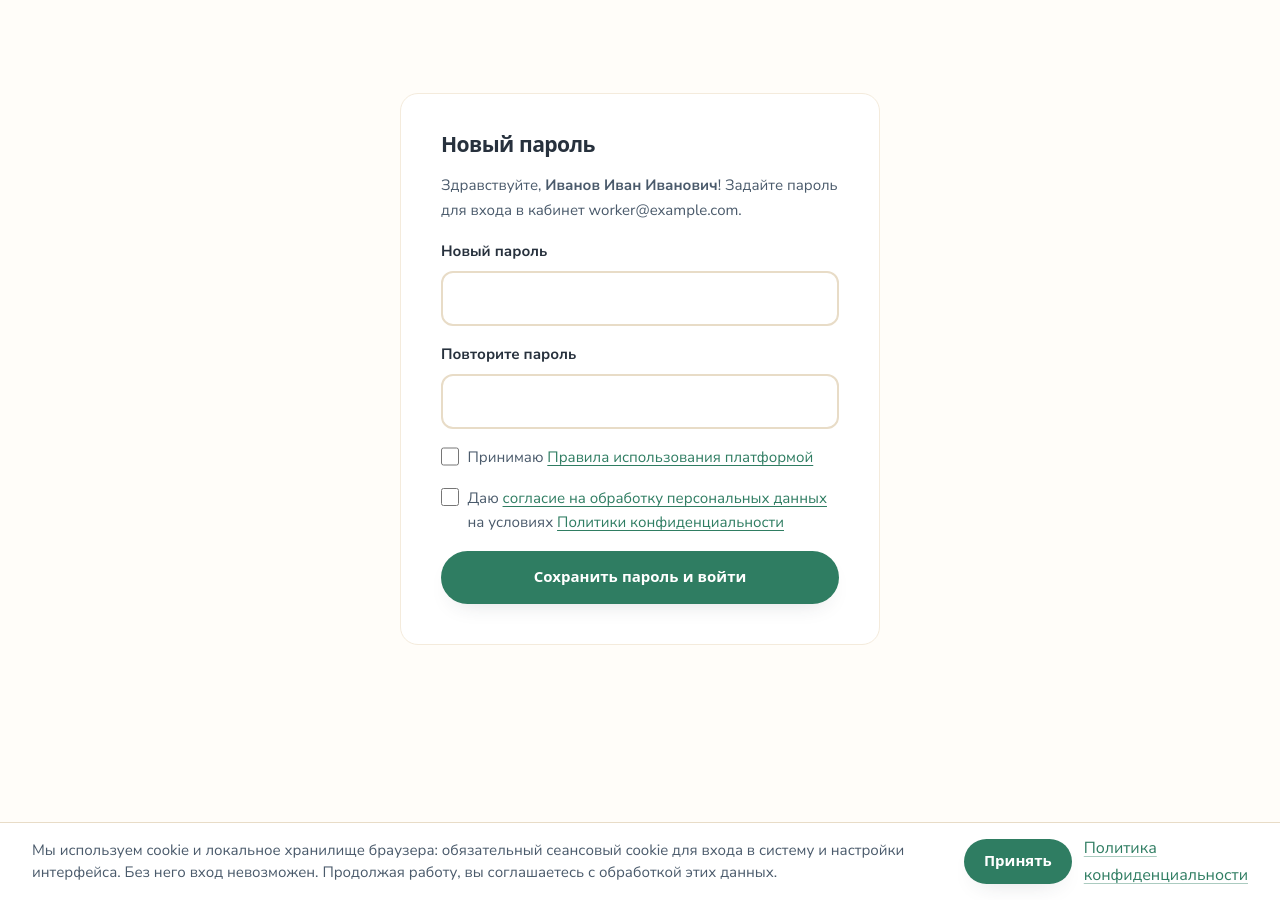
Test case: экран активации по ссылке из письма › без согласия не отправляет запрос и показывает ошибку под чекбоксом
Step 1. Type "new-password-123" into the password field with test id "activate-password" → [640, 298], box [441, 271, 839, 326]
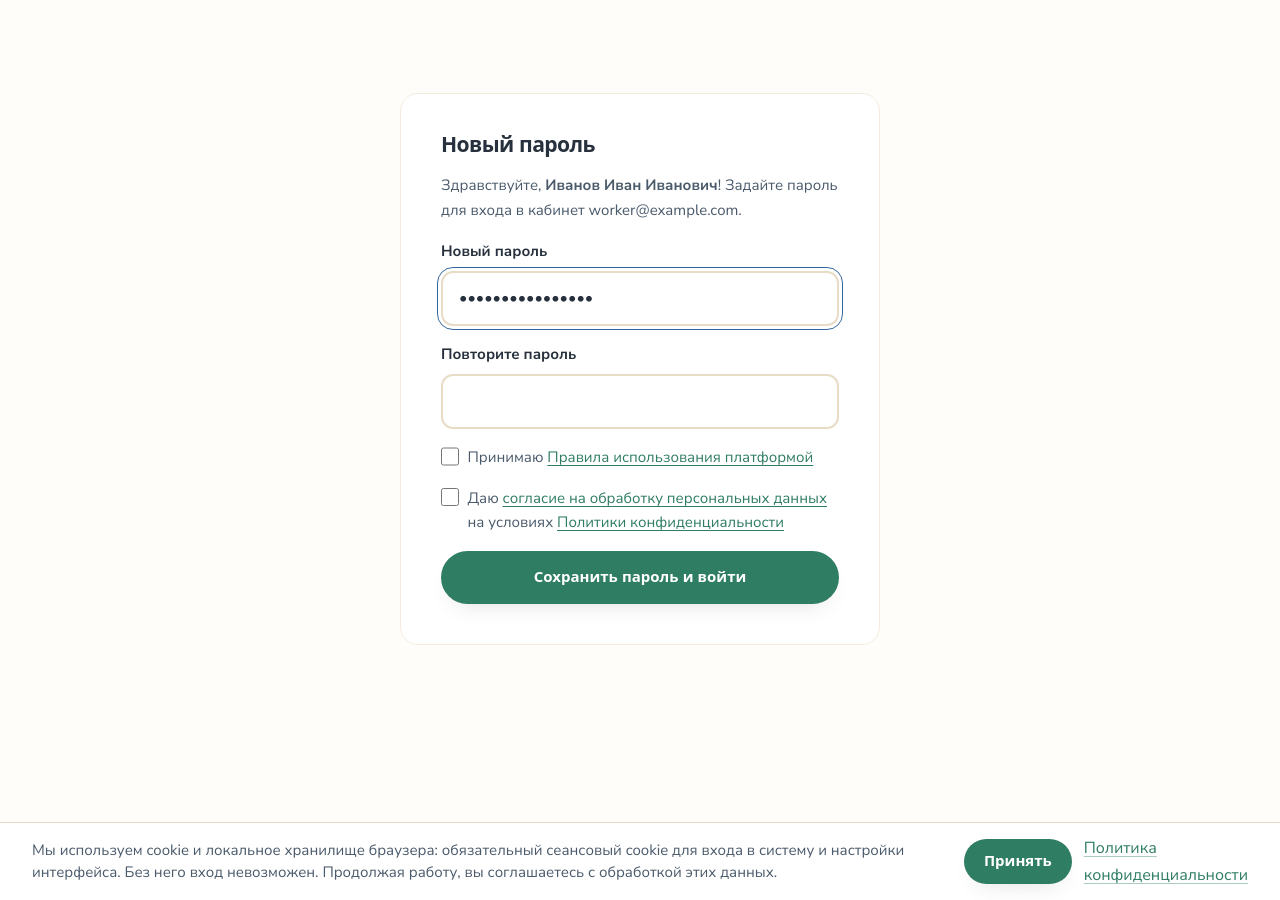
Step 2. Type "new-password-123" into the password field with test id "activate-password-confirm" → [640, 402], box [441, 374, 839, 429]
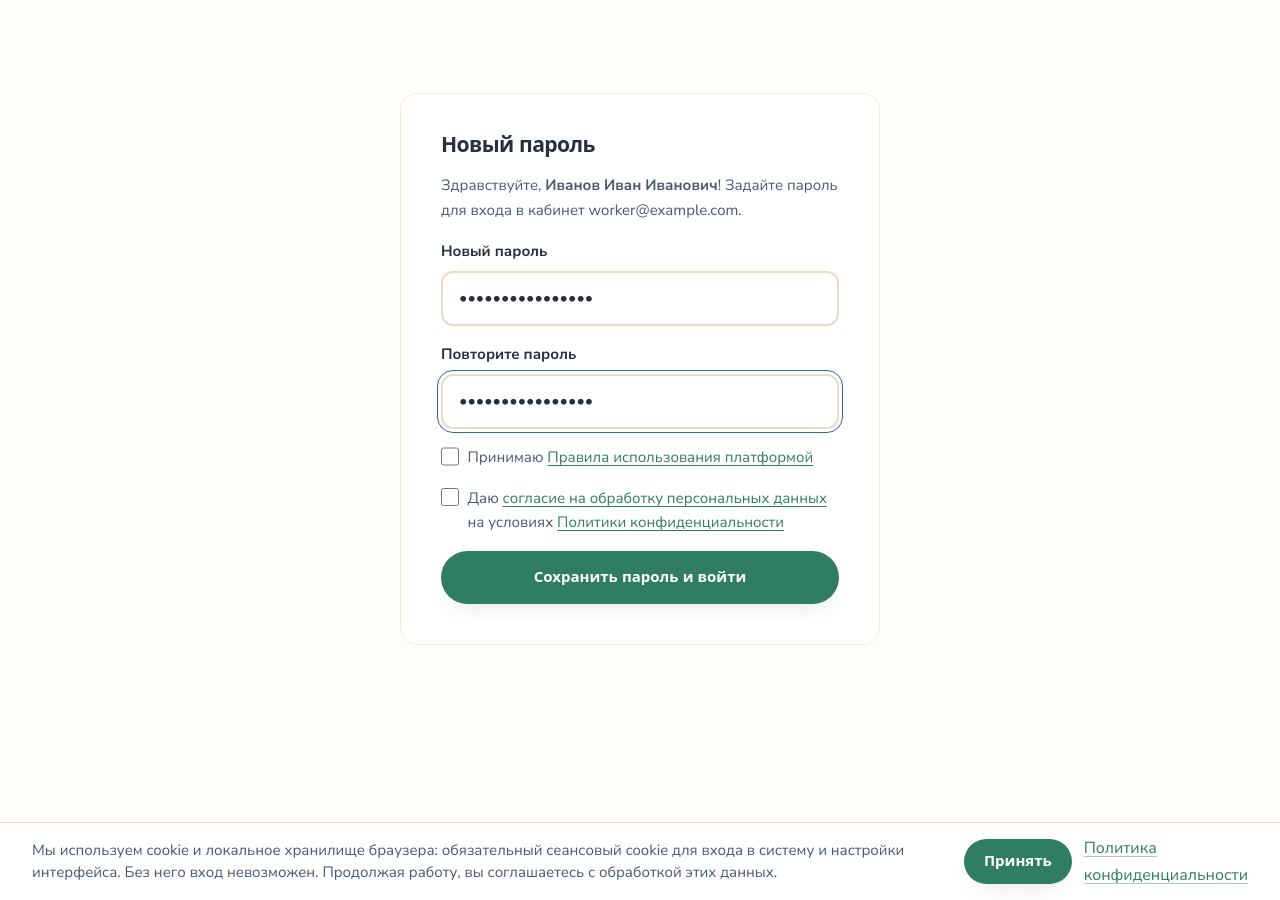
Step 3. Click the checkbox with test id "activate-terms" → [450, 456], box [441, 447, 459, 466]
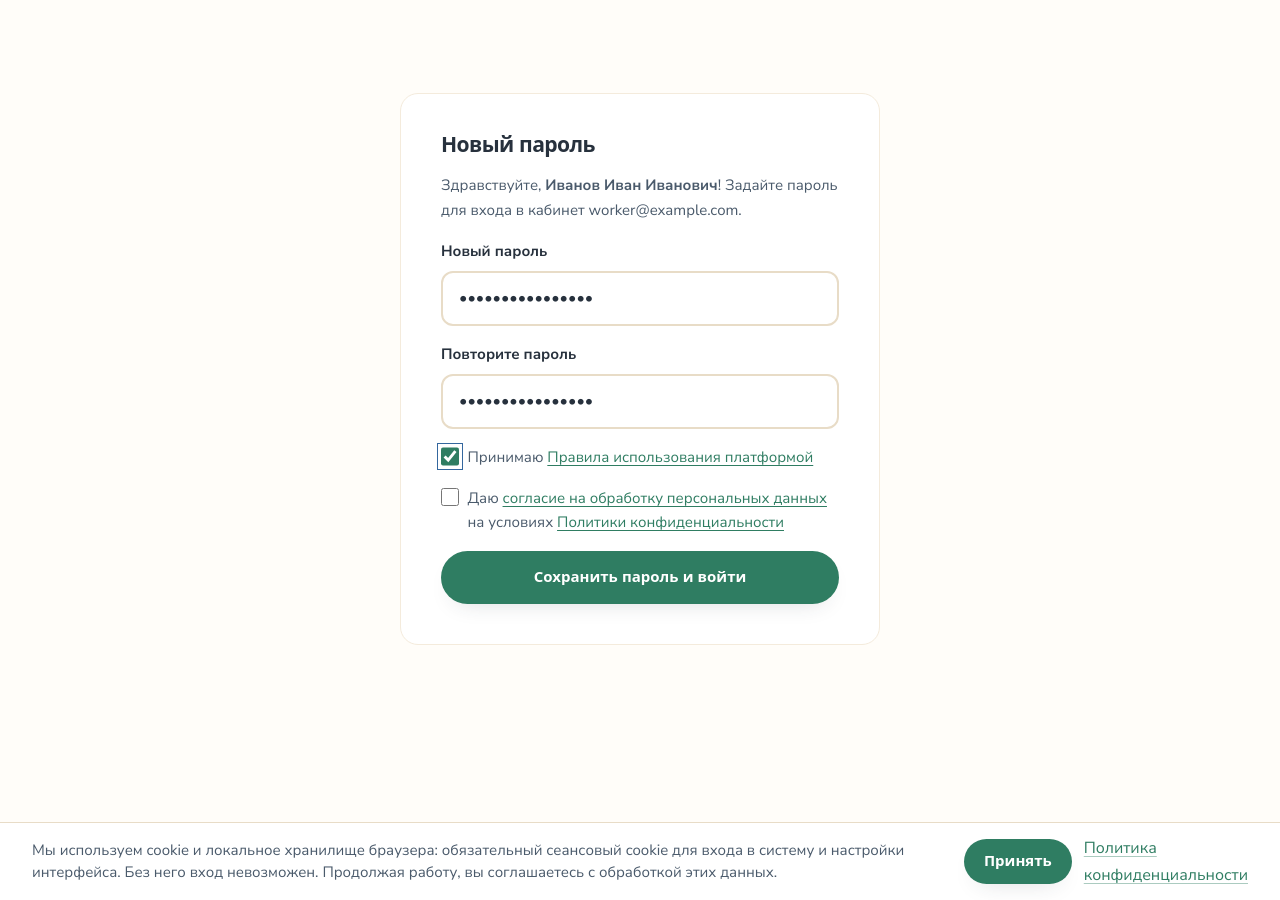
Step 4. Click the button with test id "activate-submit" → [640, 578], box [441, 551, 839, 604]
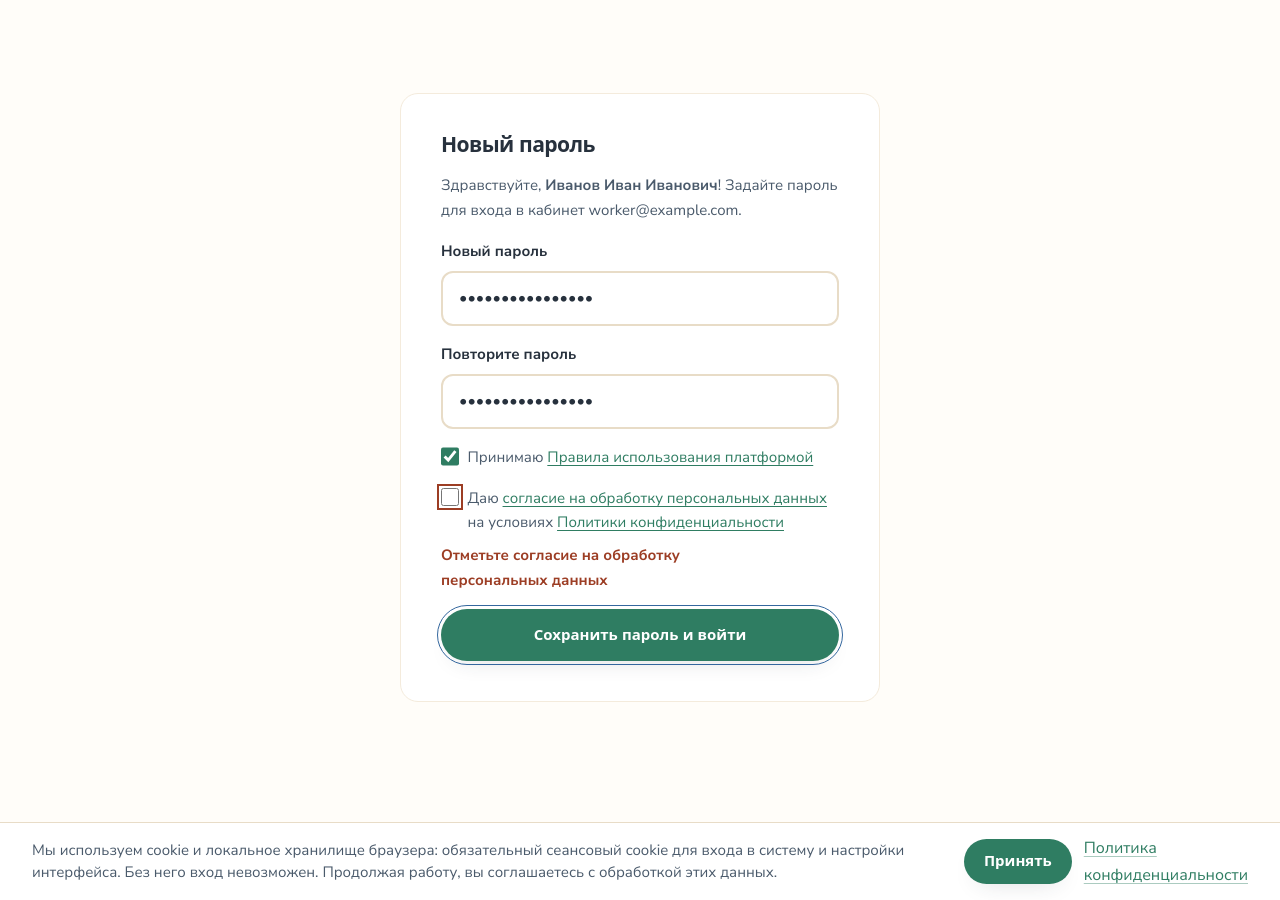
Now the message with test id "activate-consent-error" shows "согласие", box [441, 545, 680, 590]
